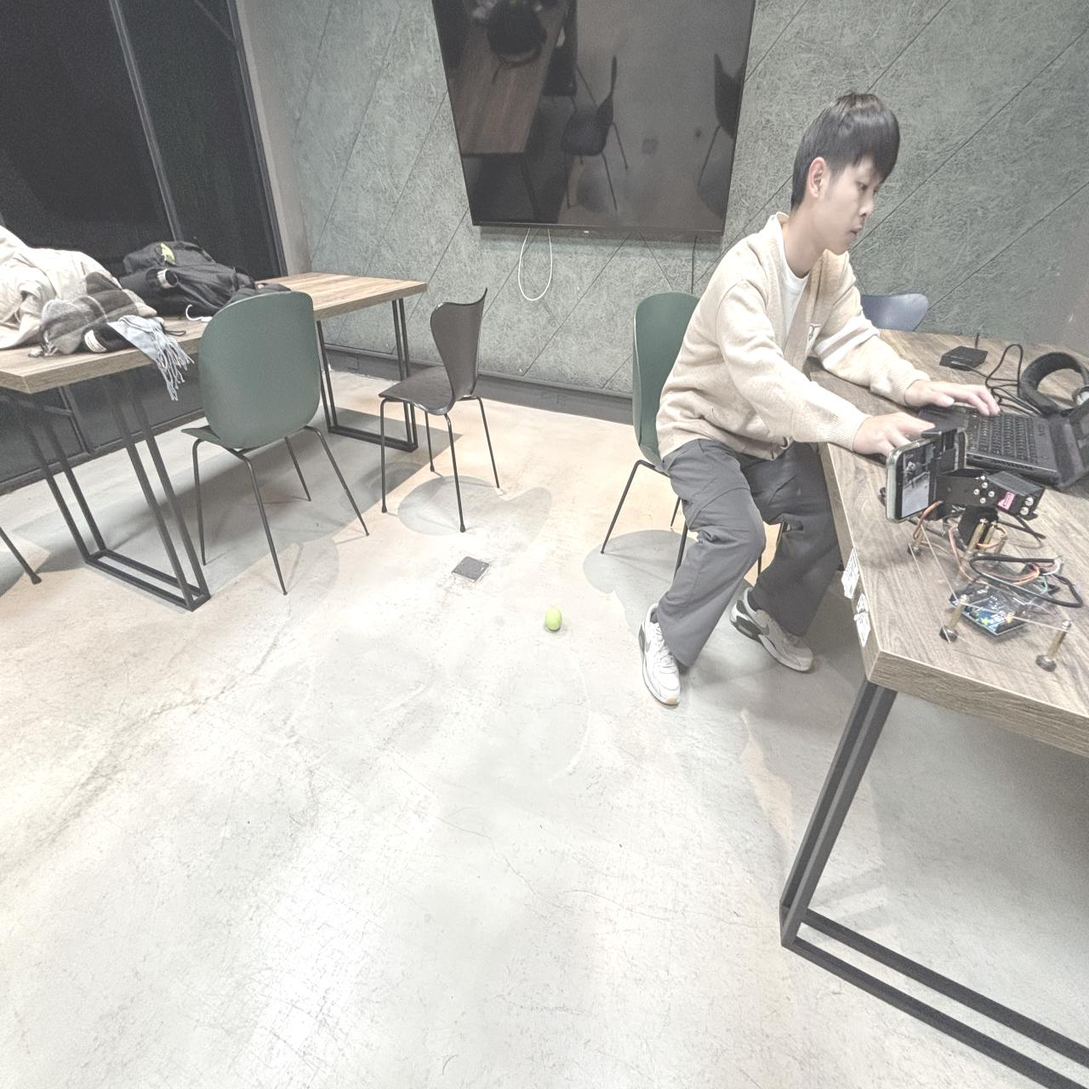tennisball: (545, 608, 562, 631)
